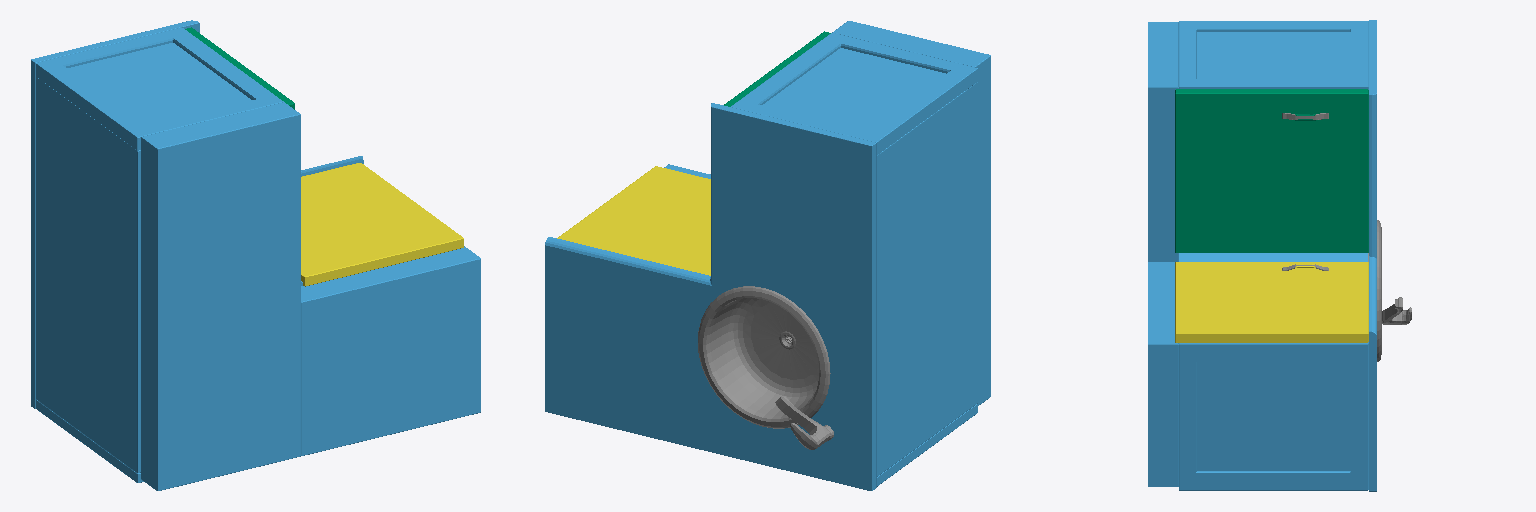
robot.urdf — 125:
<robot name="125">


	<link name="0:virtual">
		<visual>
			<origin xyz="0.0 0.0 0.0" rpy="0 0 0"/>
			<geometry>
				<cylinder length="0" radius="0"/>
			</geometry>
		</visual>
	</link>


	<link name="1:static">
		<visual>
			<origin xyz="-0.0 -0.0 -0.0" rpy="0 0 0"/>
			<geometry>
				<mesh filename="../raw_data/125/part_meshes/1.dae" />
			</geometry>
		</visual>
	</link>


	<link name="2:cabinet door 1">
		<visual>
			<origin xyz="0.03751914899266176 -0.4232254587113857 -0.006705547407272874" rpy="0 0 0"/>
			<geometry>
				<mesh filename="../raw_data/125/part_meshes/2.dae" />
			</geometry>
		</visual>
	</link>


	<link name="3:cabinet door 2">
		<visual>
			<origin xyz="-0.5972049832344055 -0.4232254587113857 0.00763791985809803" rpy="0 0 0"/>
			<geometry>
				<mesh filename="../raw_data/125/part_meshes/3.dae" />
			</geometry>
		</visual>
	</link>


	<link name="4:faucet handle 1">
		<visual>
			<origin xyz="0.4292668819295359 -0.8848250102996826 0.4236432989573781" rpy="0 0 0"/>
			<geometry>
				<mesh filename="../raw_data/125/part_meshes/4.dae" />
			</geometry>
		</visual>
	</link>


	<link name="5:faucet spout 1">
		<visual>
			<origin xyz="0.42757480058550135 -0.7980260252952576 0.4582274358083104" rpy="0 0 0"/>
			<geometry>
				<mesh filename="../raw_data/125/part_meshes/5.dae" />
			</geometry>
		</visual>
	</link>


	<joint name="0:virtual::1:static" type="fixed">
		<parent link="0:virtual"/>
		<child link="1:static"/>
		<origin xyz="0.0 0.0 0.0" rpy="0 0 0"/>
	</joint>


	<joint name="0:virtual::2:cabinet door 1_rotation" type="revolute">
		<parent link="0:virtual"/>
		<child link="2:cabinet door 1"/>
		<origin xyz="-0.03751914899266176 0.4232254587113857 0.006705547407272874" rpy="0 0 0"/>
		<limit lower="0.0" upper="1.350884841043611" effort="10" velocity="3"/>
		<axis xyz="0.0 1.0 0.0"/>
	</joint>


	<joint name="0:virtual::3:cabinet door 2_rotation" type="revolute">
		<parent link="0:virtual"/>
		<child link="3:cabinet door 2"/>
		<origin xyz="0.5972049832344055 0.4232254587113857 -0.00763791985809803" rpy="0 0 0"/>
		<limit lower="0.0" upper="1.350884841043611" effort="10" velocity="3"/>
		<axis xyz="0.0 1.0 0.0"/>
	</joint>


	<joint name="5:faucet spout 1::4:faucet handle 1_rotation" type="revolute">
		<parent link="5:faucet spout 1"/>
		<child link="4:faucet handle 1"/>
		<origin xyz="-0.001692081344034535 0.08679898500442507 0.03458413685093226" rpy="0 0 0"/>
		<limit lower="-0.8168140899333463" upper="0.8639379797371932" effort="10" velocity="3"/>
		<axis xyz="0.0 1.0 0.0"/>
	</joint>


	<joint name="0:virtual::5:faucet spout 1_rotation" type="revolute">
		<parent link="0:virtual"/>
		<child link="5:faucet spout 1"/>
		<origin xyz="-0.42757480058550135 0.7980260252952576 -0.4582274358083104" rpy="0 0 0"/>
		<limit lower="-0.6283185307179586" upper="0.39269908169872414" effort="10" velocity="3"/>
		<axis xyz="0.0 1.0 0.0"/>
	</joint>


</robot>

--- Render facts (derived) ---
Views: 3 orthographic renders of the robot side by side, from view 1: azimuth 30°, elevation 25°; view 2: azimuth 150°, elevation 25°; view 3: azimuth 270°, elevation 25°.
Model 125 with 6 links and 5 joints (4 revolute, 1 fixed), rooted at 0:virtual, posed every joint at zero.
Visible links, largest first — view 1: 1:static, 3:cabinet door 2, 2:cabinet door 1; view 2: 1:static, 3:cabinet door 2, 5:faucet spout 1, 2:cabinet door 1; view 3: 1:static, 2:cabinet door 1, 3:cabinet door 2.
Boxes of the visible links, x1,y1,x2,y2 form: 1:static: (31,20,480,490); 3:cabinet door 2: (301,163,463,286); 2:cabinet door 1: (185,27,294,109); 1:static: (545,21,990,490); 3:cabinet door 2: (557,166,710,275); 5:faucet spout 1: (775,396,830,446); 2:cabinet door 1: (724,31,830,106); 1:static: (1148,20,1381,491); 2:cabinet door 1: (1175,89,1368,252); 3:cabinet door 2: (1175,262,1368,342).
Bounding box of the posed robot: 1.2 × 0.9014 × 1.21 m (x, y, z).
5 mesh visuals loaded from 5 distinct referenced files (5 Collada DAE).